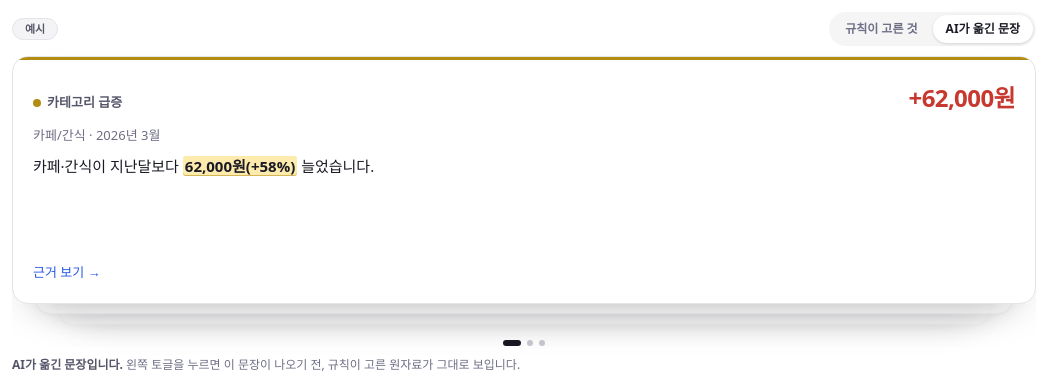
Test: InsightCardStack › says the AI has not done anything yet while showing raw fields
Click the button "규칙이 고른 것" at x=881, y=29, box [832,15,931,43]
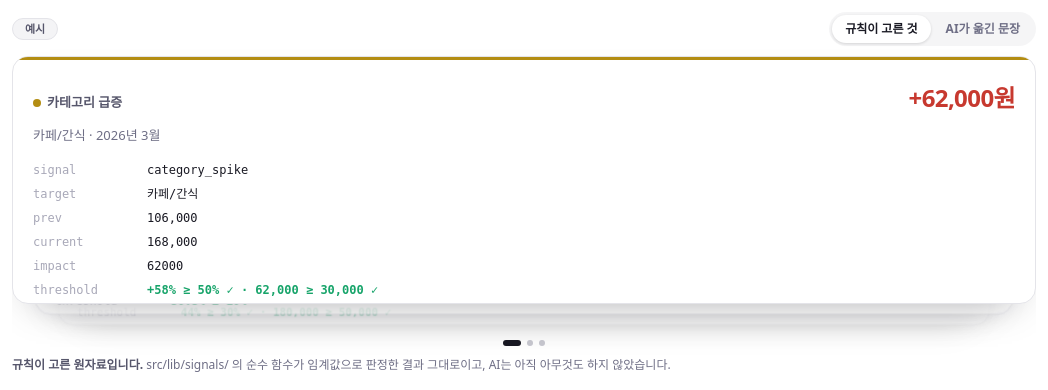
Now the text "AI는 아직 아무것도 하지 않았습니다" is shown, box [143,356,671,373]
